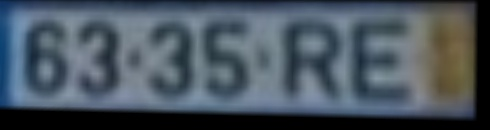3: (145, 19, 198, 105), (75, 18, 125, 104)
5: (201, 19, 254, 106)
6: (19, 17, 74, 102)
E: (348, 19, 416, 108)
R: (283, 19, 347, 105)
